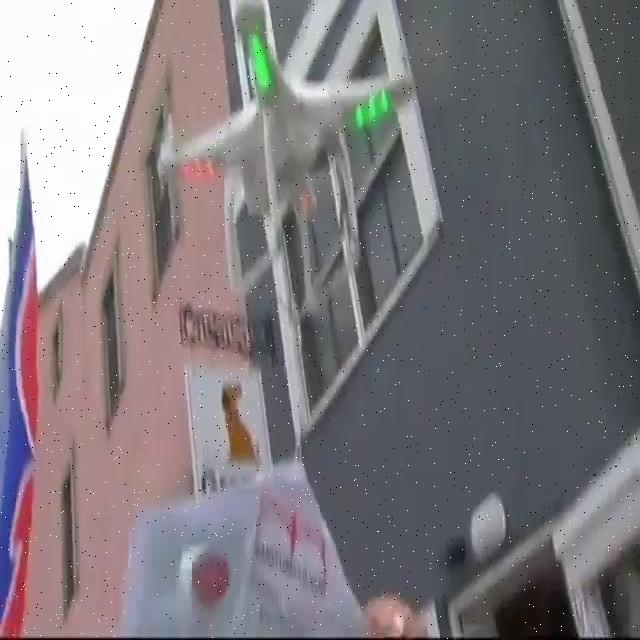UAV: (156, 0, 415, 311)
